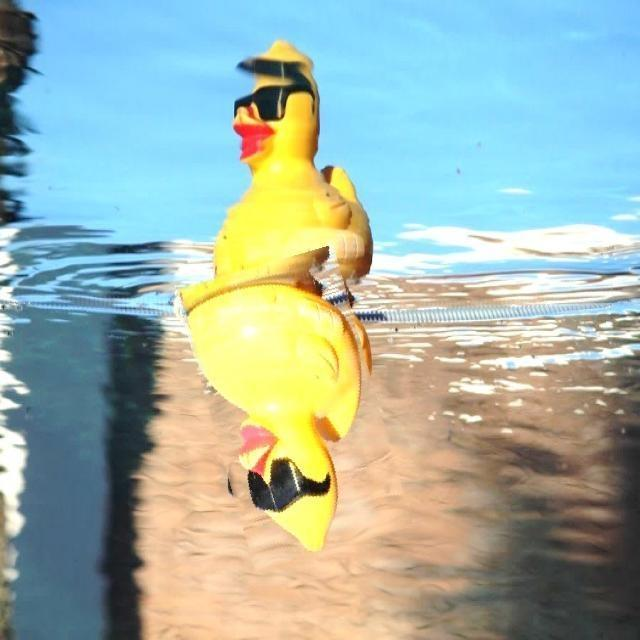rubber-duck: (186, 282, 367, 549)
